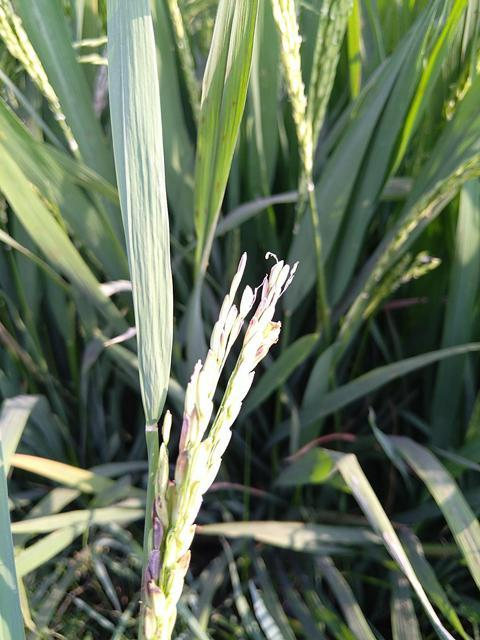Panicle Blight: (235, 281, 286, 380), (146, 498, 166, 595), (175, 415, 193, 483), (178, 525, 196, 585)
